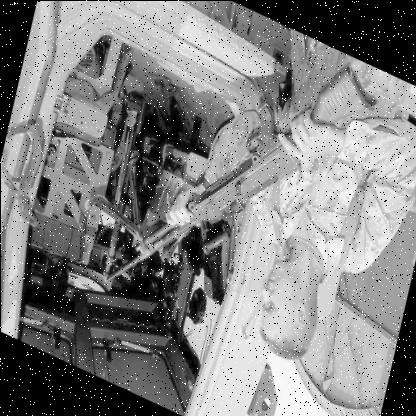rifle: (98, 0, 320, 355)
